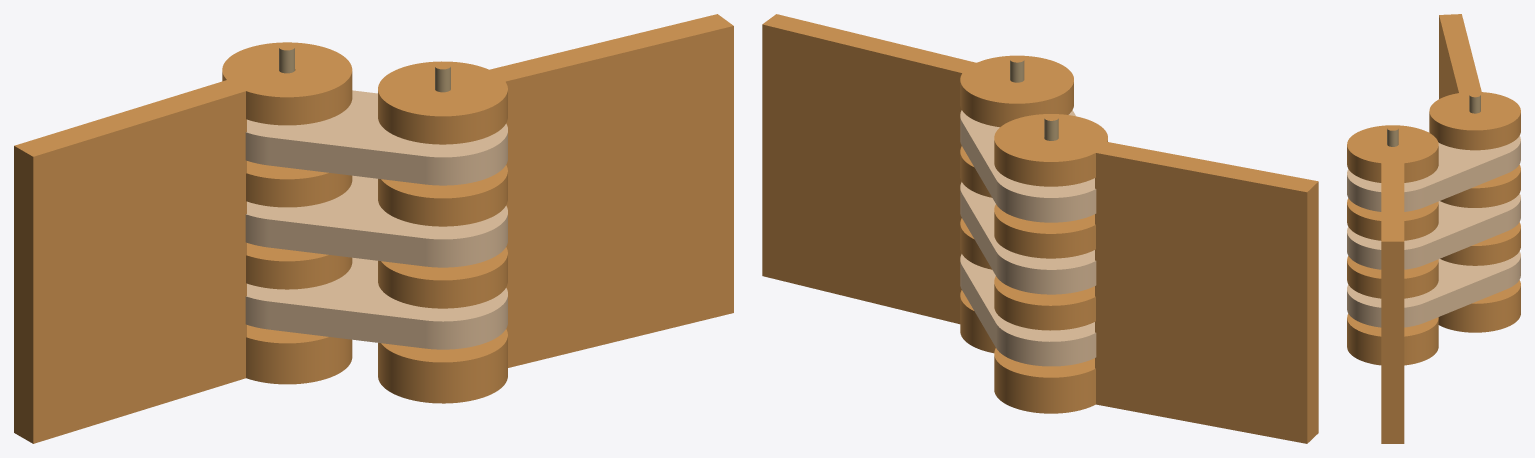
3 views of the same model, side by side, from view 1: azimuth 30°, elevation 25°; view 2: azimuth 150°, elevation 25°; view 3: azimuth 270°, elevation 25° (orthographic). The views are drawn at different scales.
Size of the model in its own units: 1.88 by 0.9048 by 0.6081.
